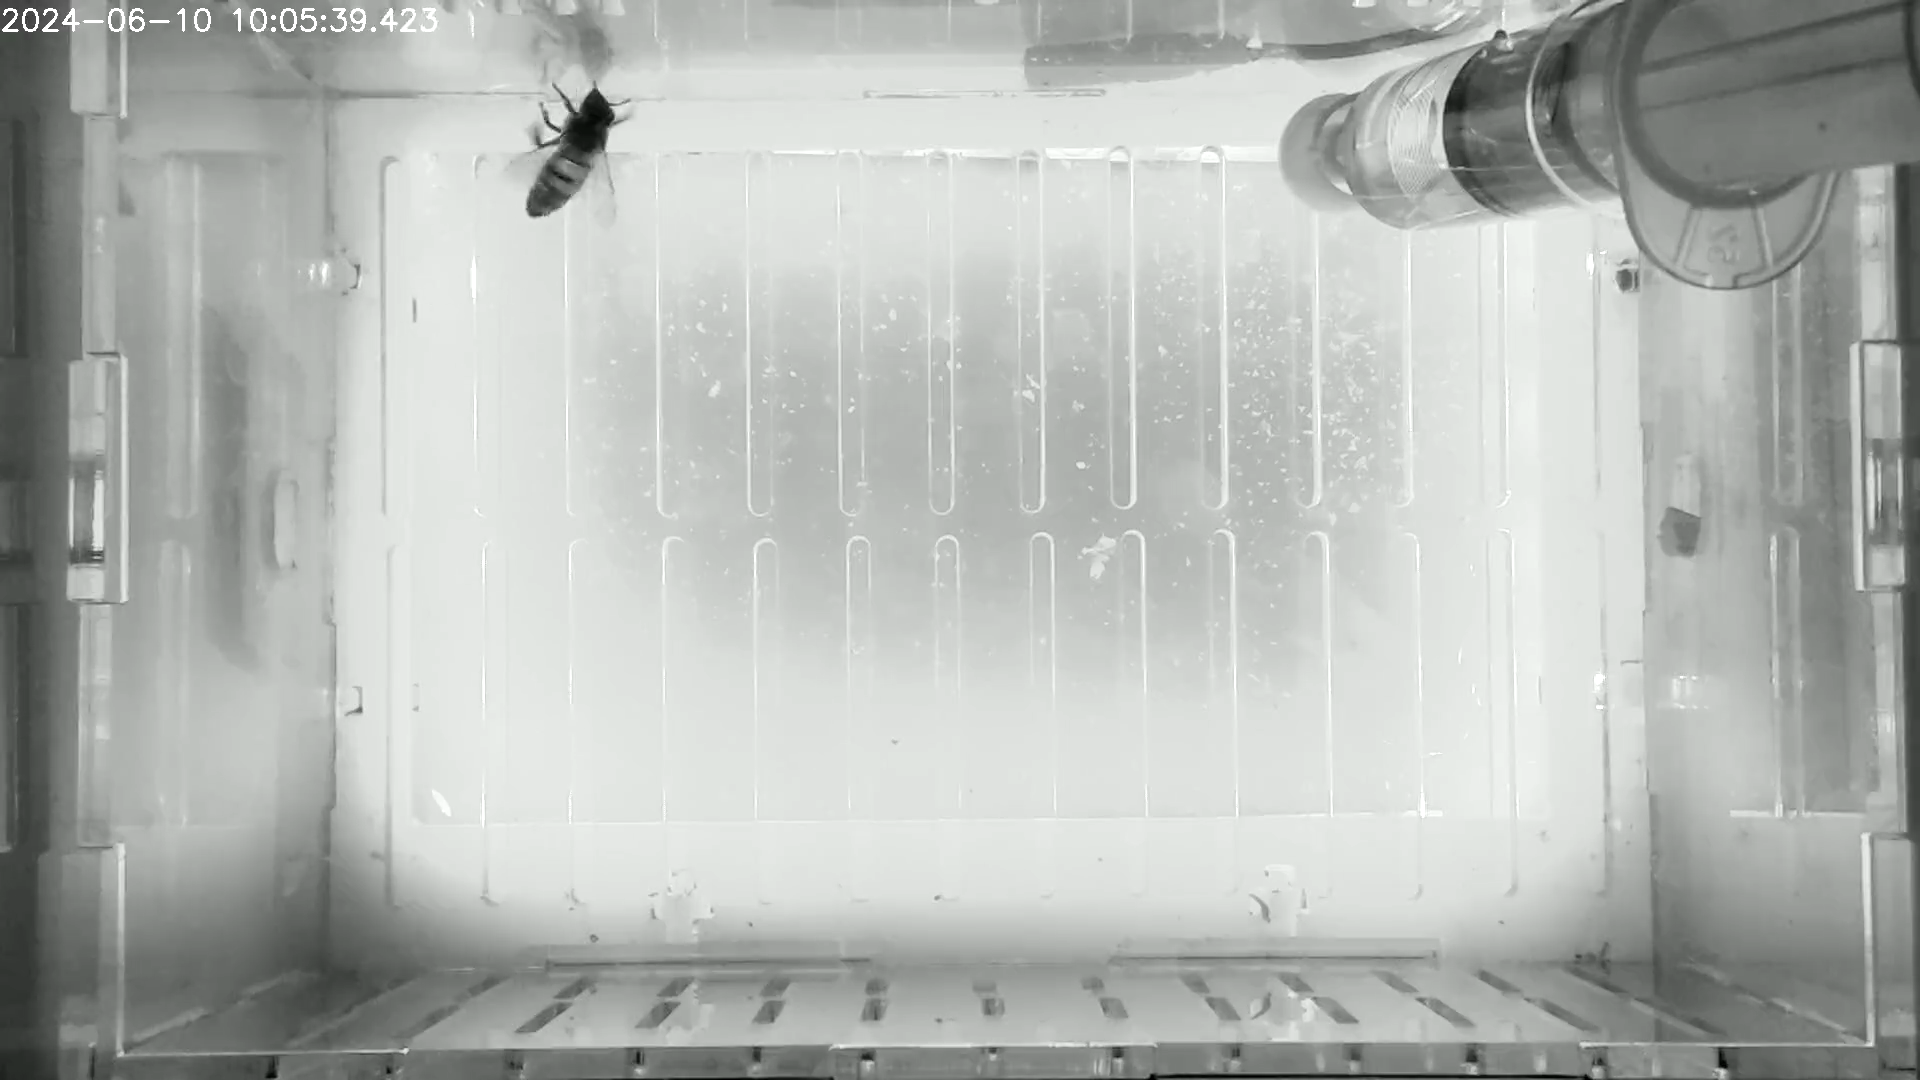bee: (489, 73, 646, 233)
feeder: (1342, 22, 1581, 243)
